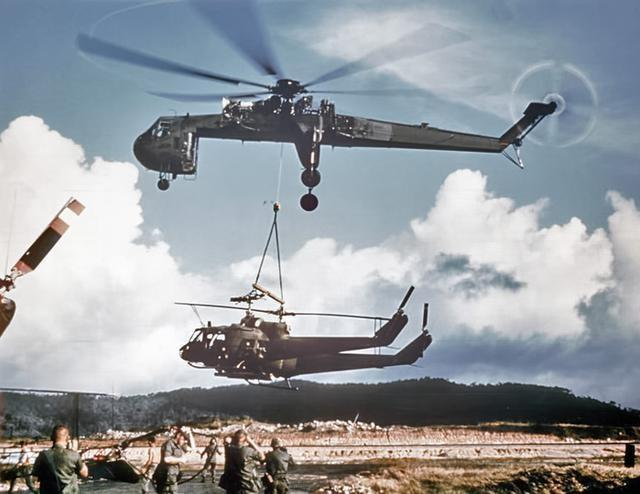airplane: (76, 6, 576, 189), (175, 272, 442, 393)
